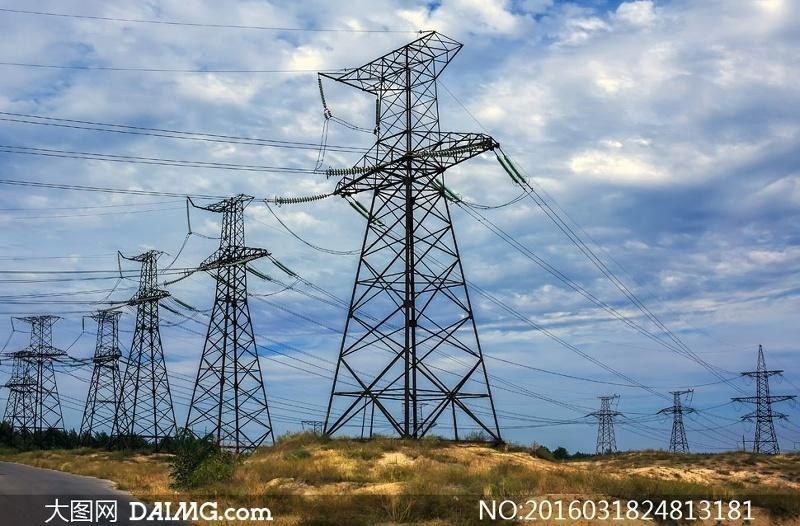power_tower: (319, 32, 533, 448), (182, 193, 299, 452), (114, 240, 183, 444), (68, 308, 132, 442), (9, 311, 76, 439), (730, 343, 798, 453), (1, 348, 34, 436), (657, 390, 702, 452), (582, 393, 627, 454), (397, 402, 439, 436), (299, 420, 332, 436)
